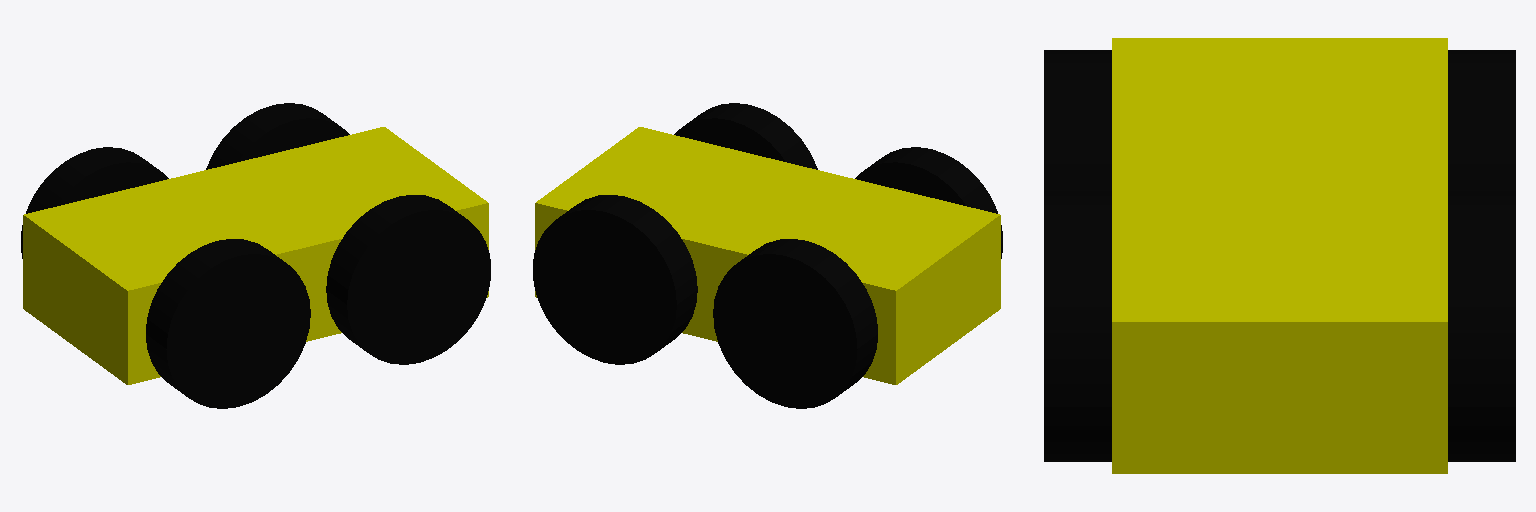
robot.urdf — labrob:
<?xml version="1.0" ?>
<robot name="labrob">
	<!-- Base link -->
	  <link name="base_link">
	    <visual  name="visual1">
	      <origin xyz="0 0 0" rpy="0 0 0" />
	      <geometry>
		  <box size="1 0.5 0.25"/>
	      </geometry>
	      <material name="yellow">
		<color rgba="0.8 0.8 0 1"/>
	      </material>
	    </visual>
	  </link>
	  <!-- Front Right Wheel -->
	  <link name="f_r_wheel">
	    <visual  name="visual2">
	      <origin xyz="0 0 0" rpy="1.570795 0 0" />
	      <geometry>
		  <cylinder length="0.1" radius="0.2" />
	      </geometry>
	      <material name="black">
		<color rgba="0.05 0.05 0.05 1"/>
	      </material>
	    </visual>
	  </link>
	  <joint name="joint_f_r_wheel" type="continuous">
	    <parent link="base_link"/>
	    <child link="f_r_wheel"/>
	    <origin xyz="0.25 -0.30 0" rpy="0 0 0" /> 
	    <axis xyz="0 1 0" rpy="0 0 0" />
	  </joint>  
	  <!-- Back Right Wheel -->
	  <link name="b_r_wheel">
	    <visual  name="visual3">
	      <origin xyz="0 0 0" rpy="1.570795 0 0" />
	      <geometry>
		  <cylinder length="0.1" radius="0.2" />
	      </geometry>
	      <material name="black"/>
	    </visual>
	  </link>
	  <joint name="joint_b_r_wheel" type="continuous">
	    <parent link="base_link"/>
	    <child link="b_r_wheel"/>
	    <origin xyz="-0.25 -0.30 0" rpy="0 0 0" /> 
	    <axis xyz="0 1 0" rpy="0 0 0" />
	  </joint>  
	  <!-- Front Left Wheel -->
	  <link name="f_l_wheel">
	    <visual  name="visual4">
	      <origin xyz="0 0 0" rpy="1.570795 0 0" />
	      <geometry>
		  <cylinder length="0.1" radius="0.2" />
	      </geometry>
	      <material name="black"/>
	    </visual>
	  </link>
	  <joint name="joint_f_l_wheel" type="continuous">
	    <parent link="base_link"/>
	    <child link="f_l_wheel"/>
	    <origin xyz="0.25 0.30 0" rpy="0 0 0" /> 
	    <axis xyz="0 1 0" rpy="0 0 0" />
	  </joint>
	  <!-- Back Left Wheel -->
	  <link name="b_l_wheel">
	    <visual  name="visual5">
	      <origin xyz="0 0 0" rpy="1.570795 0 0" />
	      <geometry>
		  <cylinder length="0.1" radius="0.2" />
	      </geometry>
	      <material name="black"/>
	    </visual>
	  </link>
	  <joint name="joint_b_l_wheel" type="continuous">
	    <parent link="base_link"/>
	    <child link="b_l_wheel"/>
	    <origin xyz="-0.25 0.30 0" rpy="0 0 0" /> 
	    <axis xyz="0 1 0" rpy="0 0 0" />
	  </joint>
</robot>

--- Render facts (derived) ---
The picture shows the robot from 3 angles, left to right: view 1: azimuth 30°, elevation 25°; view 2: azimuth 150°, elevation 25°; view 3: azimuth 270°, elevation 25°; orthographic projection.
Model labrob with 5 links and 4 joints (4 continuous), rooted at base_link, posed every joint at zero.
Links seen in each view (by area): view 1: base_link, b_r_wheel, f_r_wheel, b_l_wheel, f_l_wheel; view 2: base_link, b_l_wheel, f_l_wheel, b_r_wheel, f_r_wheel; view 3: base_link, f_r_wheel, f_l_wheel, b_r_wheel, b_l_wheel.
Link boxes in pixels (bbox=[...]): base_link: bbox=[23, 127, 488, 384]; b_r_wheel: bbox=[146, 239, 310, 408]; f_r_wheel: bbox=[326, 195, 490, 364]; b_l_wheel: bbox=[21, 147, 168, 258]; f_l_wheel: bbox=[206, 103, 349, 169]; base_link: bbox=[535, 127, 1000, 384]; b_l_wheel: bbox=[713, 239, 877, 408]; f_l_wheel: bbox=[533, 195, 697, 364]; b_r_wheel: bbox=[855, 147, 1002, 258]; f_r_wheel: bbox=[674, 103, 817, 169]; base_link: bbox=[1112, 38, 1447, 473]; f_r_wheel: bbox=[1044, 193, 1111, 461]; f_l_wheel: bbox=[1448, 193, 1515, 461]; b_r_wheel: bbox=[1044, 50, 1111, 192]; b_l_wheel: bbox=[1448, 50, 1515, 192].
Bounding box of the posed robot: 1 × 0.7 × 0.4 m (x, y, z).
Geometry: primitives only (box / cylinder / sphere), no mesh files.